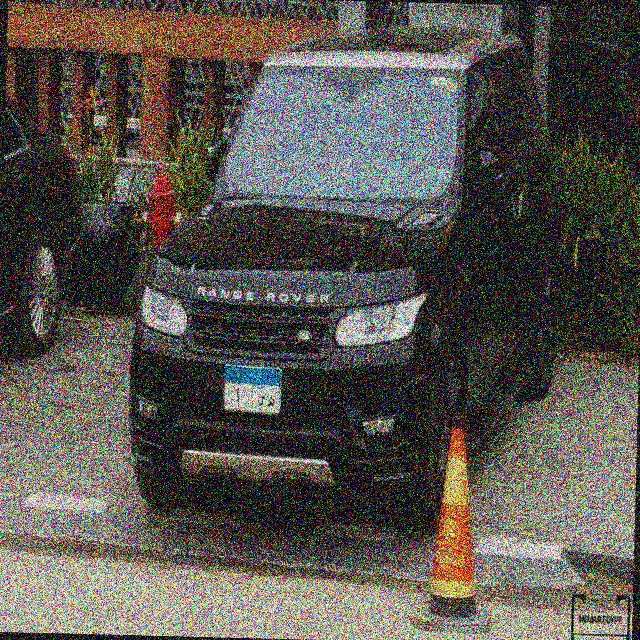License Plate: (221, 360, 284, 419)
